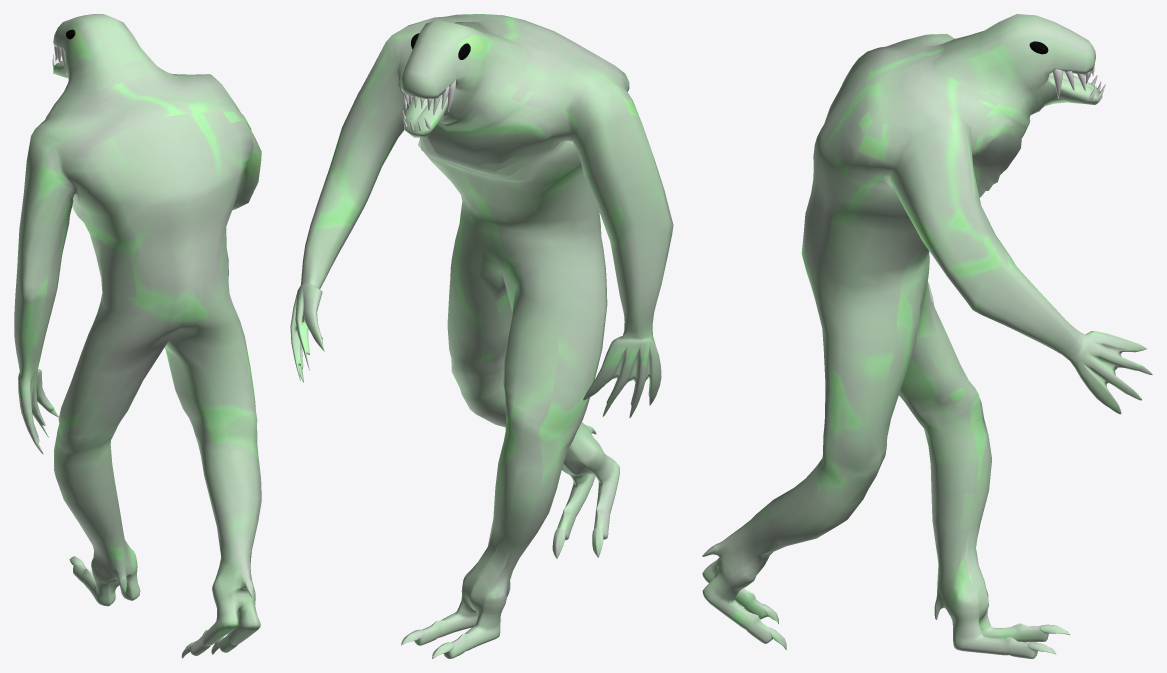
File: Berserkerandar.0047.obj
3 renders of one model, left to right at view 1: azimuth 30°, elevation 25°; view 2: azimuth 150°, elevation 25°; view 3: azimuth 270°, elevation 25°, orthographic. The views are drawn at different scales.
Visible parts, largest first — view 1: polySurface27; view 2: polySurface27; view 3: polySurface27.
Part boxes in pixels (left/top/right/bottom): polySurface27: left=14, top=14, right=261, bottom=658; polySurface27: left=290, top=14, right=673, bottom=658; polySurface27: left=702, top=14, right=1152, bottom=658.
Bounding box in the file's own units: 11.38 × 23.08 × 14.92.
Materials: 1 (1 with a texture image).
